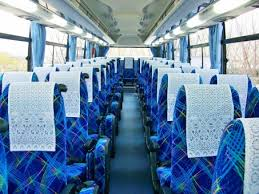seat: (173, 83, 234, 193)
